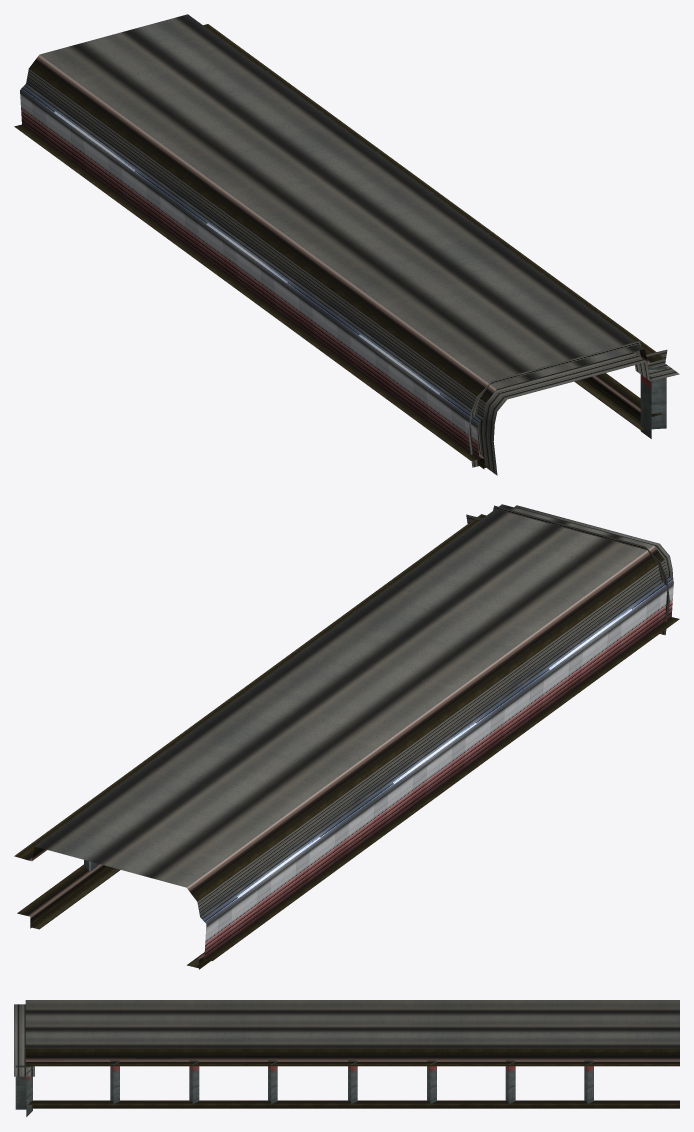
The model's file is ny_tunnel.fbx.
3 views of the same model, one above another, from view 1: azimuth 30°, elevation 25°; view 2: azimuth 150°, elevation 25°; view 3: azimuth 270°, elevation 25° (orthographic). The views are drawn at different scales.
Visible parts, largest first — view 1: ny_tunnel; view 2: ny_tunnel; view 3: ny_tunnel.
Part boxes in pixels (bbox=[...]): ny_tunnel: bbox=[14, 14, 679, 475]; ny_tunnel: bbox=[14, 504, 679, 969]; ny_tunnel: bbox=[14, 1000, 679, 1116].
Bounding box in the file's own units: 2560 × 1066 × 10180.
